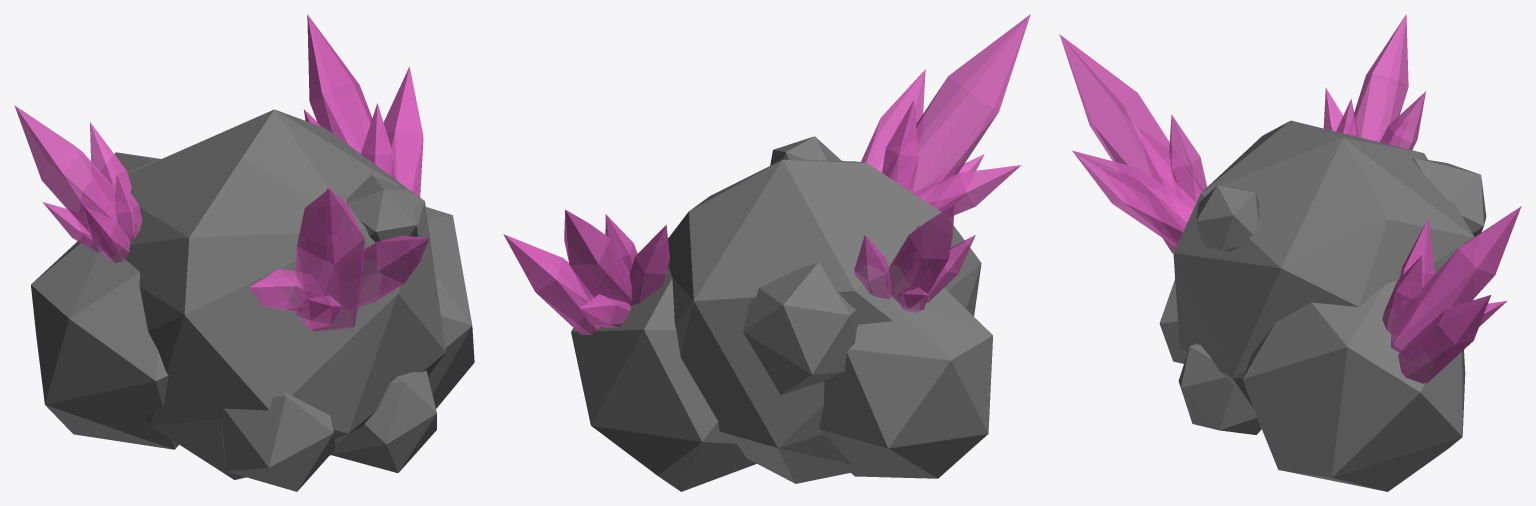
Rendered from MagicstoneOre.fbx.
The picture shows the model from 3 angles, left to right: view 1: azimuth 30°, elevation 25°; view 2: azimuth 150°, elevation 25°; view 3: azimuth 270°, elevation 25°; orthographic projection. The views are drawn at different scales.
Parts seen in each view (by area): view 1: MagicstoneOrePile; view 2: MagicstoneOrePile; view 3: MagicstoneOrePile.
Part boxes in pixels (<box>): MagicstoneOrePile: <box>14,14,474,491</box>; MagicstoneOrePile: <box>503,14,1030,491</box>; MagicstoneOrePile: <box>1059,14,1521,491</box>.
Size of the model in its own units: 2.91 by 2.68 by 2.98.
